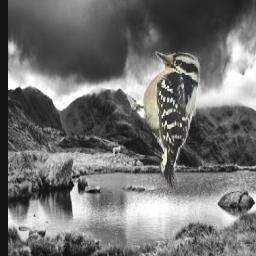Woodpecker: (124, 50, 202, 190)
